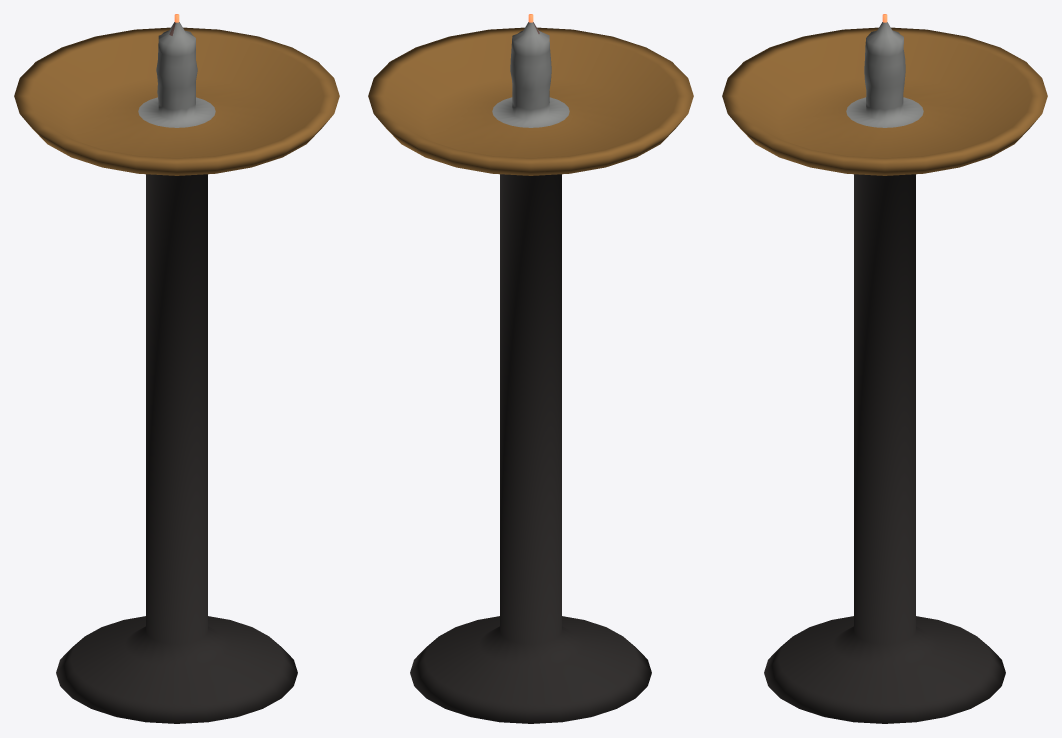
File: Torch.fbx
The picture shows the model from 3 angles, left to right: view 1: azimuth 30°, elevation 25°; view 2: azimuth 150°, elevation 25°; view 3: azimuth 270°, elevation 25°; orthographic projection.
Visible parts, largest first — view 1: Cylinder.001; view 2: Cylinder.001; view 3: Cylinder.001.
Boxes of the visible parts, bbox=[...] form: Cylinder.001: bbox=[14, 14, 339, 723]; Cylinder.001: bbox=[368, 14, 693, 723]; Cylinder.001: bbox=[722, 14, 1047, 723].
Bounding box in the file's own units: 269 × 600 × 269.
